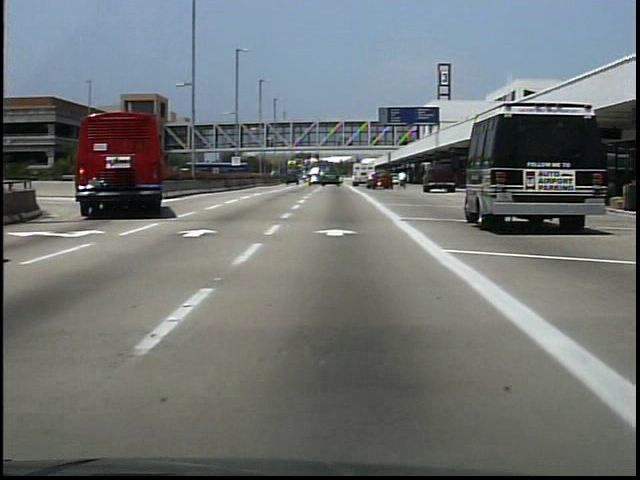person: (395, 169, 408, 191)
